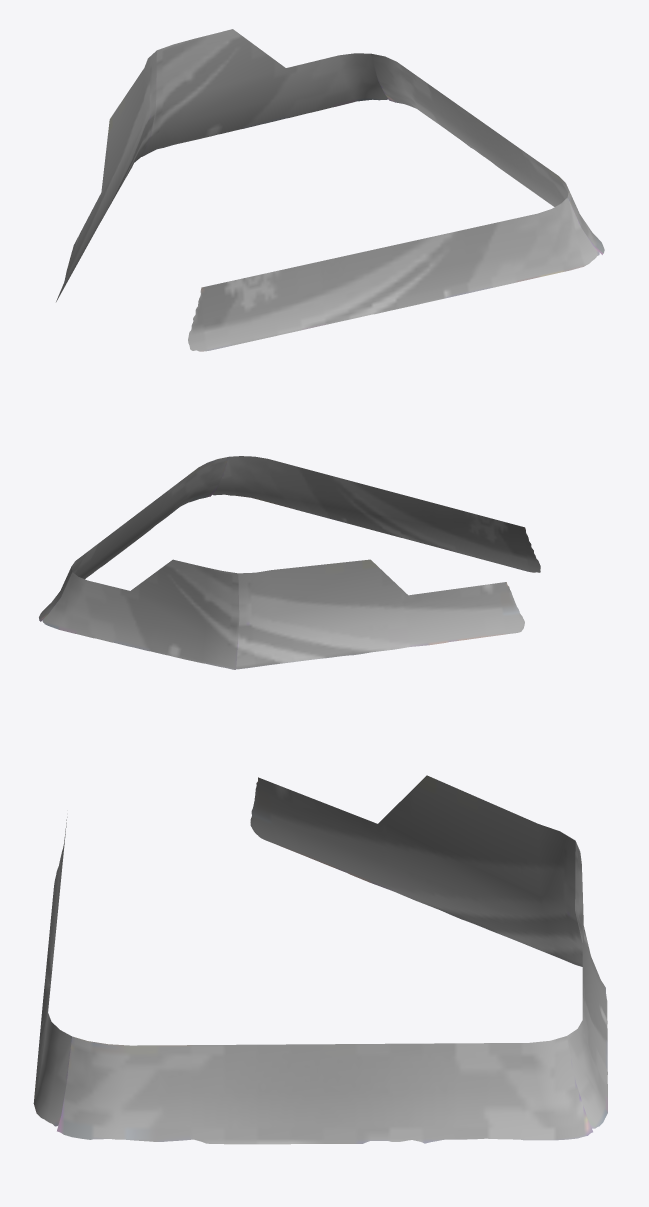
Rendered from pref_sm_beach_winter_techobstacle07d_mirror_lv3.fbx.
The picture shows the model from 3 angles, top to bottom: view 1: azimuth 30°, elevation 25°; view 2: azimuth 150°, elevation 25°; view 3: azimuth 270°, elevation 25°; orthographic projection. The views are drawn at different scales.
Parts seen in each view (by area): view 1: pref_sm_beach_winter_techobstacle07d_mirror_lv3; view 2: pref_sm_beach_winter_techobstacle07d_mirror_lv3; view 3: pref_sm_beach_winter_techobstacle07d_mirror_lv3.
Boxes of the visible parts, <box> form: pref_sm_beach_winter_techobstacle07d_mirror_lv3: <box>56,29,604,351</box>; pref_sm_beach_winter_techobstacle07d_mirror_lv3: <box>39,456,540,669</box>; pref_sm_beach_winter_techobstacle07d_mirror_lv3: <box>33,775,607,1144</box>.
Size of the model in its own units: 8.35 by 2.13 by 6.06.
